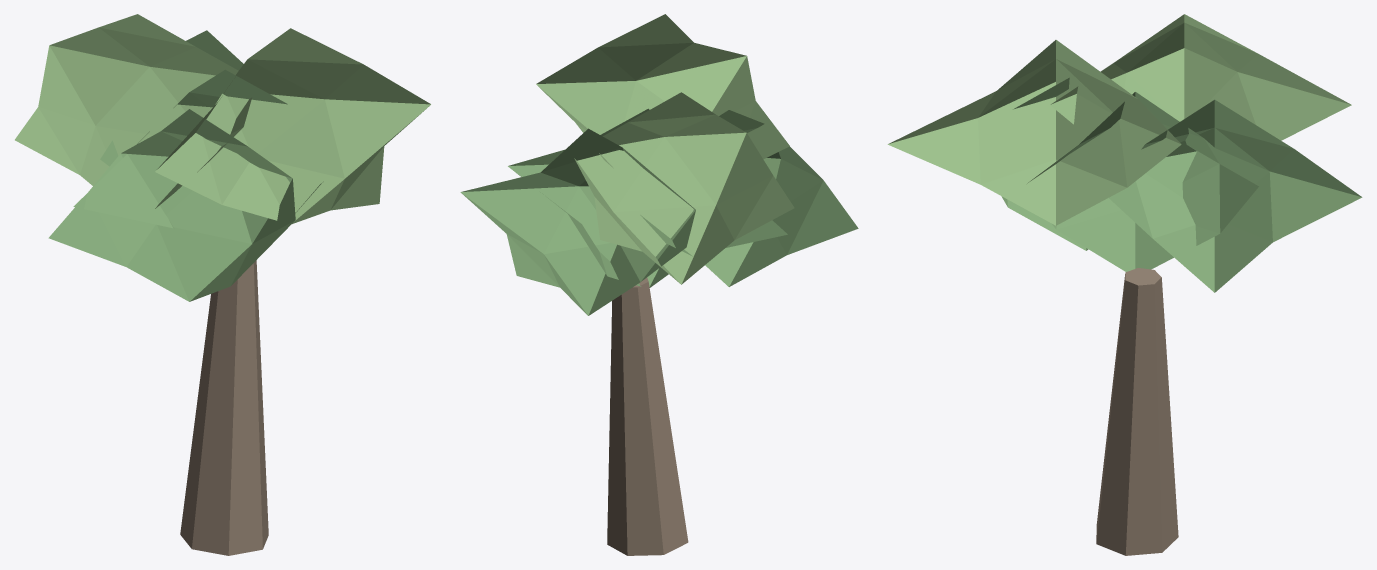
The model's file is broadleaf_v01.glb.
3 views of the same model, side by side, from view 1: azimuth 30°, elevation 25°; view 2: azimuth 150°, elevation 25°; view 3: azimuth 270°, elevation 25° (orthographic). The views are drawn at different scales.
Visible parts, largest first — view 1: lod0; view 2: lod0; view 3: lod0.
Part boxes in pixels (x1,y1,x2,y2): lod0: (15,14,430,555); lod0: (460,14,858,555); lod0: (887,14,1362,555).
Size of what is drawn, in the model's own units: 3.35 by 4.69 by 3.96.
